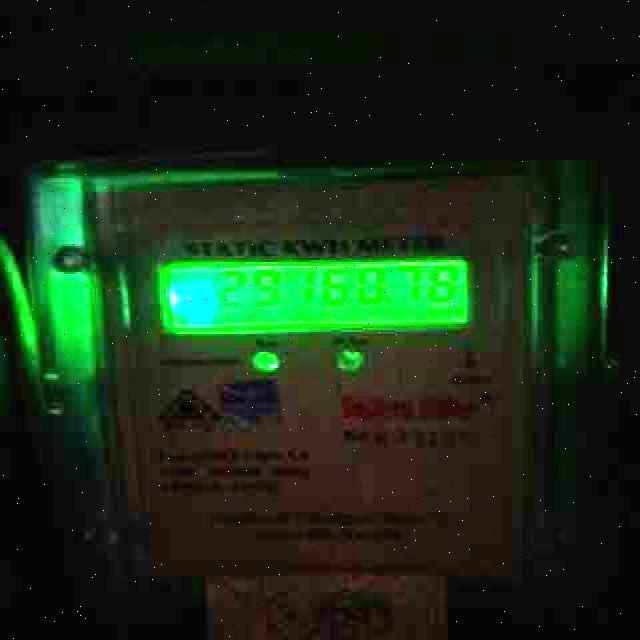LCD: (146, 246, 489, 342)
